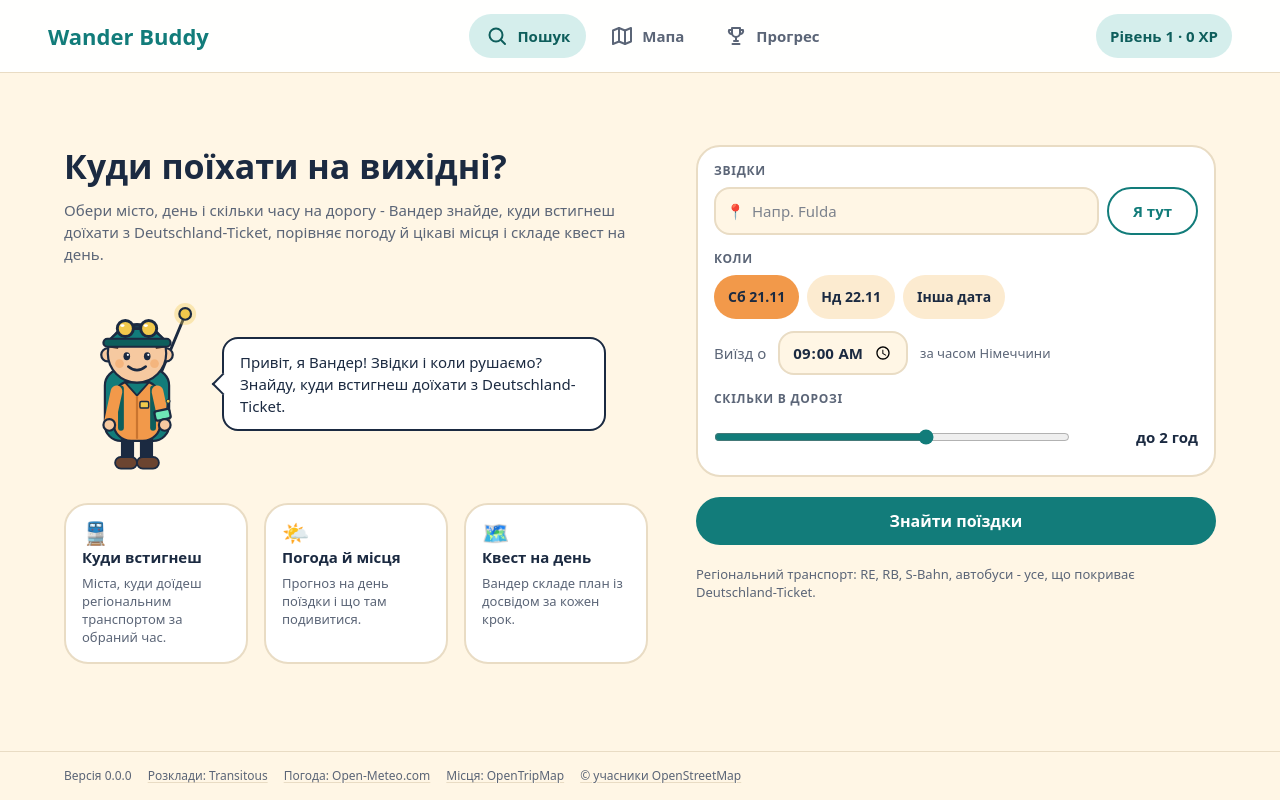
Test: search screen › suggests stations while typing and searches with the chosen one
Later steps or results of the test are not shown.
Type "Ful" into the dropdown at (906, 211), box [714,187,1099,235]
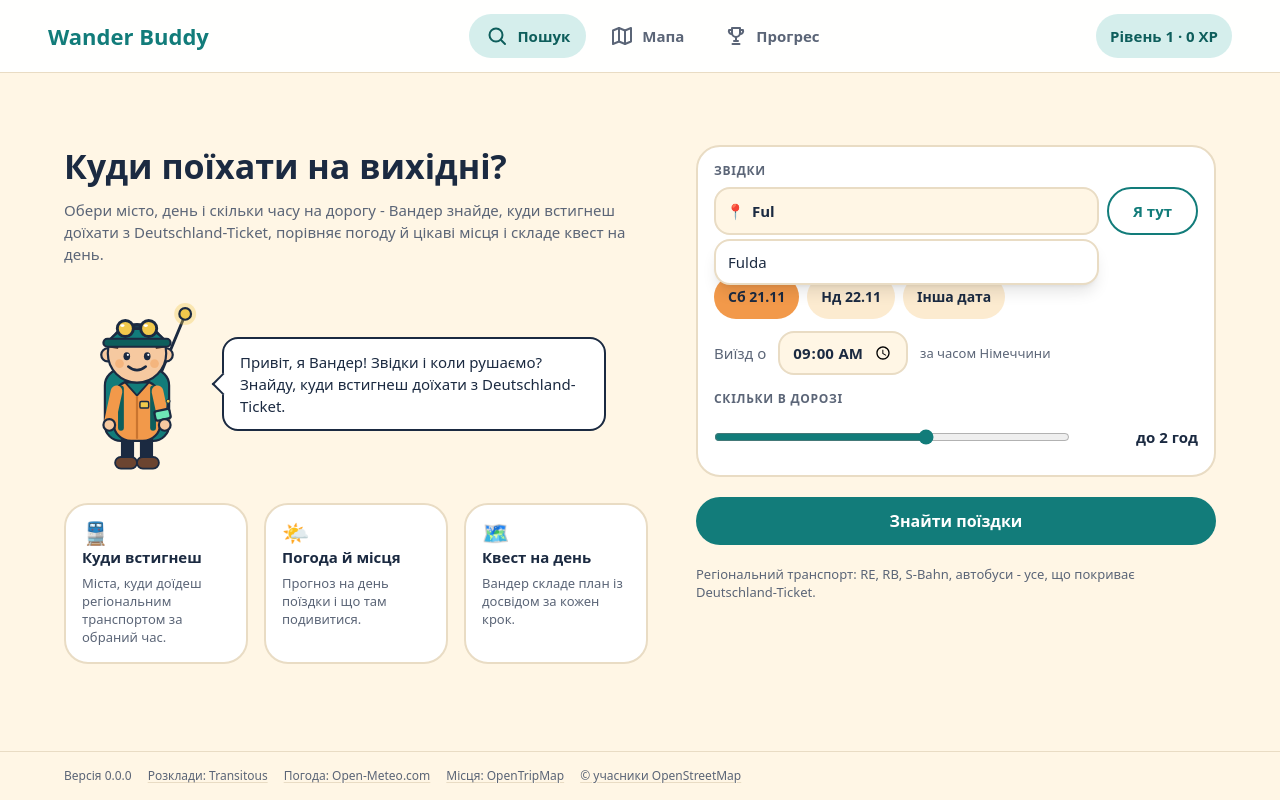
Press the mouse on the option "Fulda" at (747, 262), box [728,252,767,272]
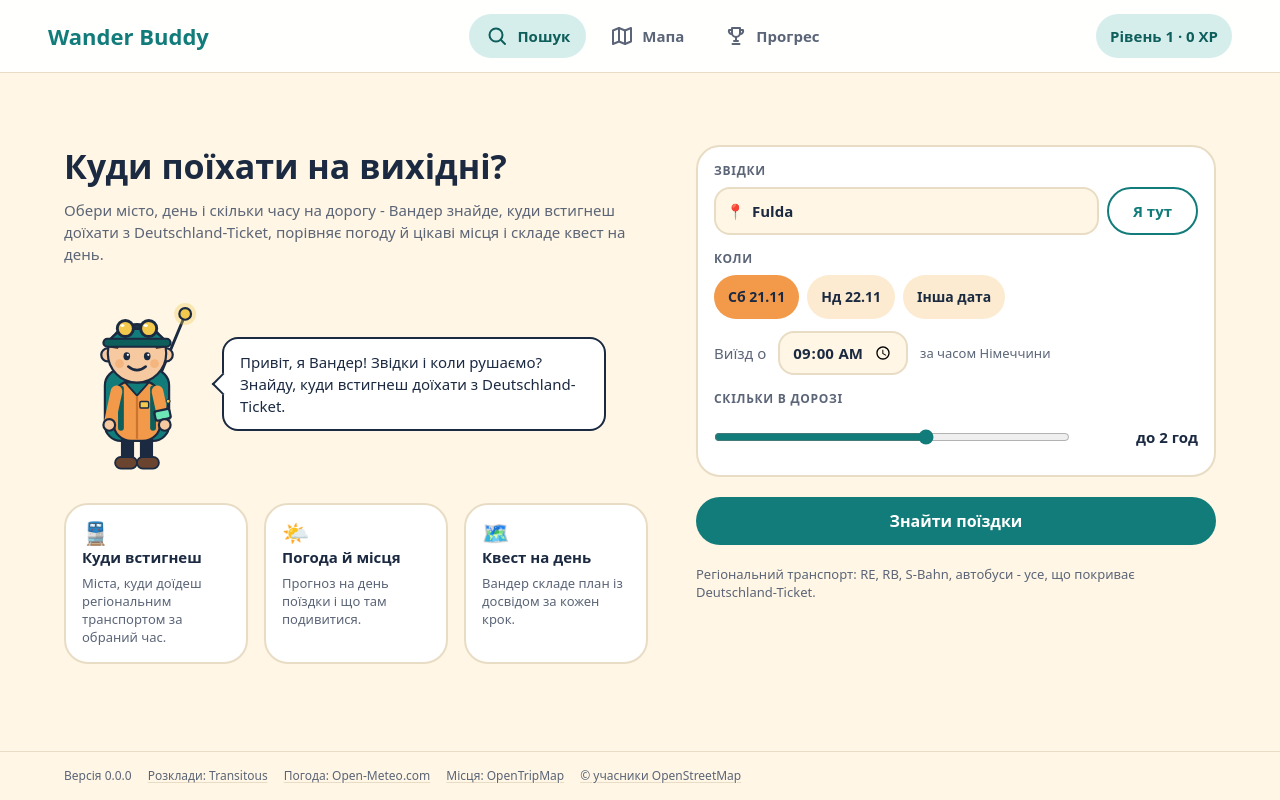
expect the dropdown holds "Fulda": met, box [714,187,1099,235]
